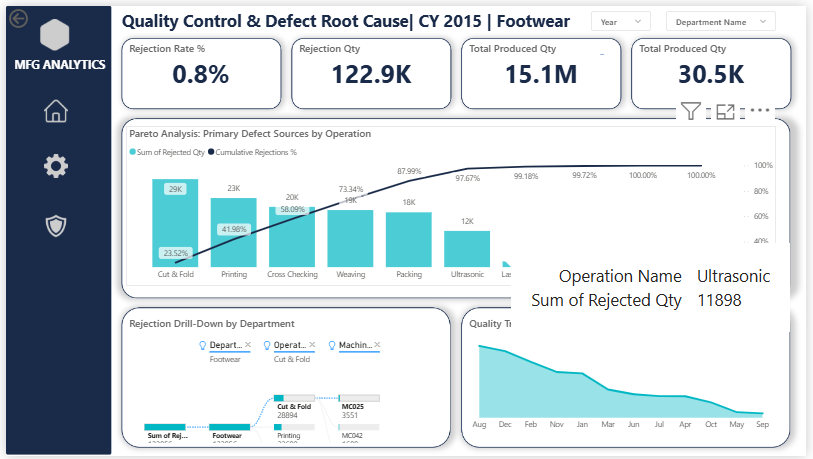

This screenshot's page, from the dashboard's own definition file:
{"tool":"powerbi","page":{"name":"Quality Control","canvas":[1280,720],"ordinal":2},"visuals":[{"type":"card","title":"Rejection Rate %","fields":{"Values":["_All Measure.Rejection Rate %"]},"box":[192,56,240,80],"z":0},{"type":"card","title":"Rejection Qty","fields":{"Values":["Sum(Manfacturing Data.Rejected Qty)"]},"box":[464,56,240,80],"z":1000},{"type":"card","title":"Total Produced Qty","fields":{"Values":["Sum(Manfacturing Data.Produced Qty)"]},"box":[736,56,240,80],"z":2000},{"type":"card","title":"Total Produced Qty","fields":{"Values":["_All Measure.Cost of Rejection"]},"box":[1008,56,240,80],"z":3000},{"type":"lineClusteredColumnComboChart","title":"Pareto Analysis: Primary Defect Sources by Operation","fields":{"Category":["Manfacturing Data.Operation Name"],"Y":["Sum(Manfacturing Data.Rejected Qty)"],"Y2":["_All Measure.Cumulative Rejections %"]},"box":[192,192,1040,256],"z":4000},{"type":"decompositionTreeVisual","title":"Rejection Drill-Down by Department","fields":{"Analyze":["Sum(Manfacturing Data.Rejected Qty)"],"ExplainBy":["Manfacturing Data.Department Name","Manfacturing Data.Operation Name","Manfacturing Data.Machine Code"]},"box":[192,496,496,208],"z":5000},{"type":"stackedAreaChart","title":"Quality Trend: Monthly Rejection Rate","fields":{"Category":["Date Table.Month Short"],"Y":["_All Measure.Rejection Rate %"]},"box":[736,496,496,192],"z":6000},{"type":"card","fields":{"Values":["_All Measure.Smart Title3"]},"box":[176,0,736,48],"z":7000},{"type":"slicer","fields":{"Values":["Date Table.Year"]},"box":[936,8,96,32],"z":8000},{"type":"textbox","title":"MFG ANALYTICS","box":[8,80,160,32],"z":10000},{"type":"actionButton","box":[0,0,100,40],"z":11000},{"type":"image","box":[56,136,48,64],"z":12000},{"type":"image","box":[56,232,48,48],"z":13000},{"type":"image","box":[56,320,48,64],"z":14000},{"type":"image","box":[48,16,60,60],"z":15000},{"type":"slicer","fields":{"Values":["Manfacturing Data.Department Name"]},"box":[1056,8,176,32],"z":15001}]}

Visuals, with their boxes in screenshot pixels (x1, y1, x2, y2), scaled from the page's 1280x720 canvas onto the 813x459 screenshot:
"Rejection Rate %" card: box(122, 36, 274, 87)
"Rejection Qty" card: box(295, 36, 447, 87)
"Total Produced Qty" card: box(467, 36, 620, 87)
"Total Produced Qty" card: box(640, 36, 793, 87)
"Pareto Analysis: Primary Defect Sources by Operation" lineClusteredColumnComboChart: box(122, 122, 783, 286)
"Rejection Drill-Down by Department" decompositionTreeVisual: box(122, 316, 437, 449)
"Quality Trend: Monthly Rejection Rate" stackedAreaChart: box(467, 316, 783, 439)
card - _All Measure.Smart Title3: box(112, 0, 579, 31)
slicer - Date Table.Year: box(595, 5, 655, 26)
"MFG ANALYTICS" textbox: box(5, 51, 107, 71)
actionButton: box(0, 0, 64, 26)
image: box(36, 87, 66, 127)
image: box(36, 148, 66, 178)
image: box(36, 204, 66, 245)
image: box(30, 10, 69, 48)
slicer - Manfacturing Data.Department Name: box(671, 5, 783, 26)
